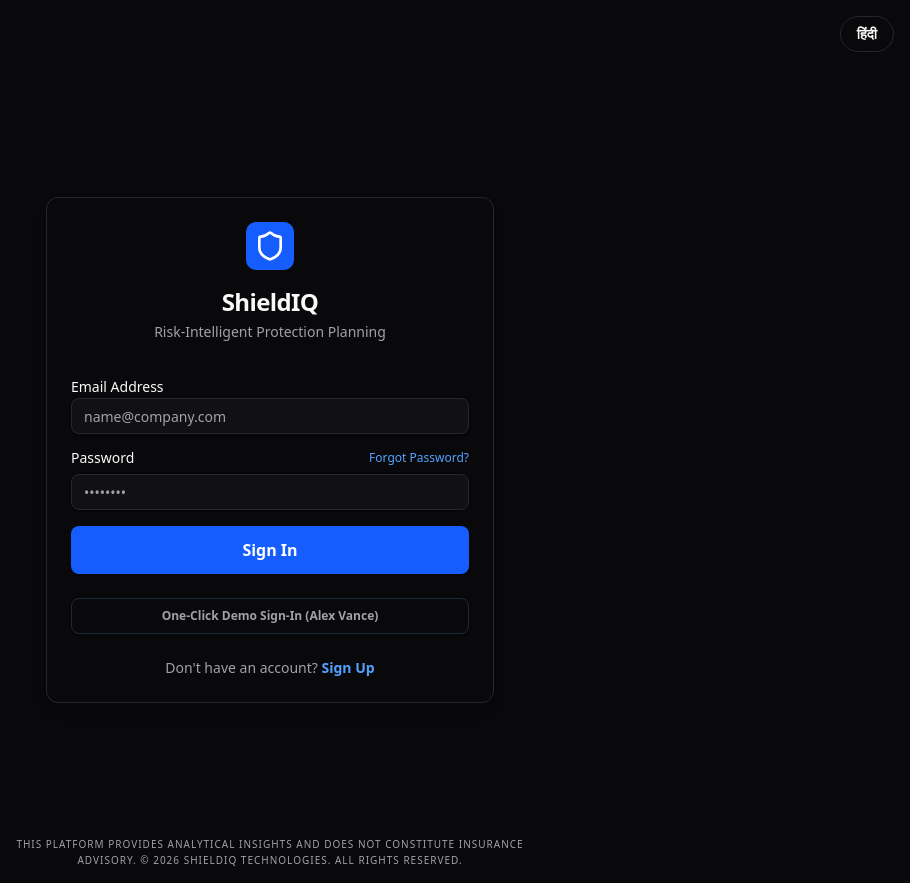
Test: LoginView Component › switches to the forgot-password form
Click the button "Forgot Password?". click: (419, 458)
box: [369,450,469,466]
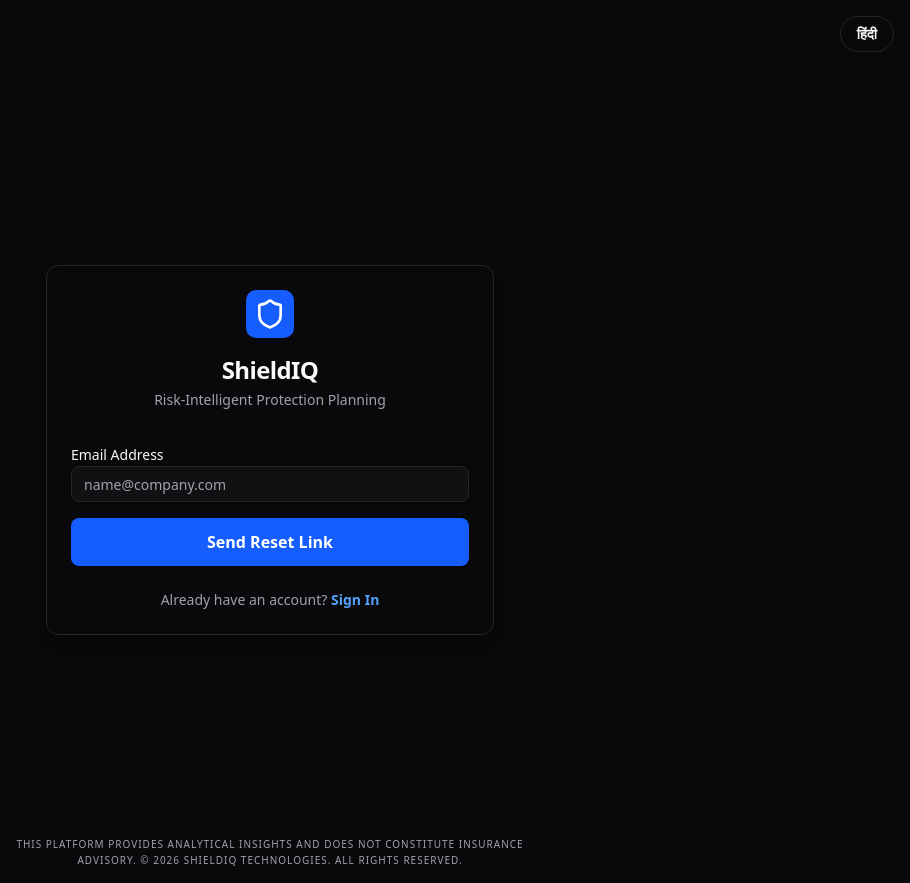
Expected: the label labelled "Password" is gone
Expected: the button "Send Reset Link" is shown, [71,518,469,566]
